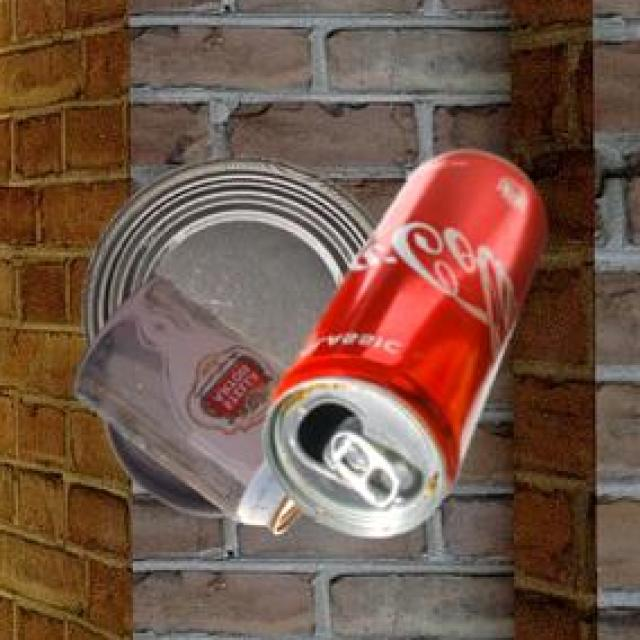logam: (260, 154, 544, 540), (80, 159, 375, 518), (71, 281, 299, 537)
